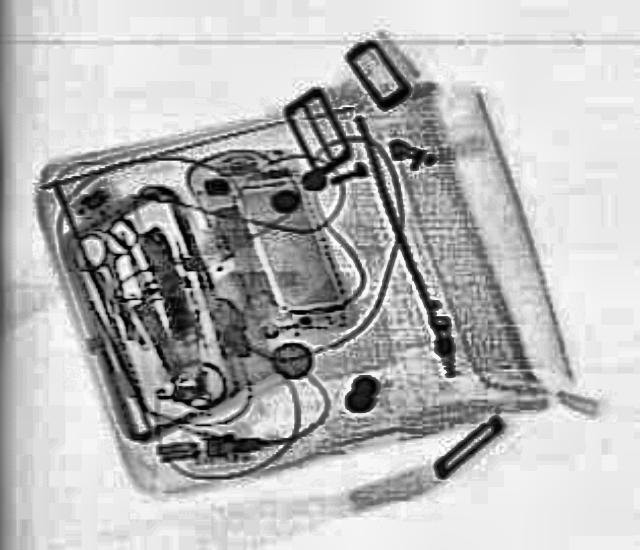Scissors: (60, 214, 164, 336)
